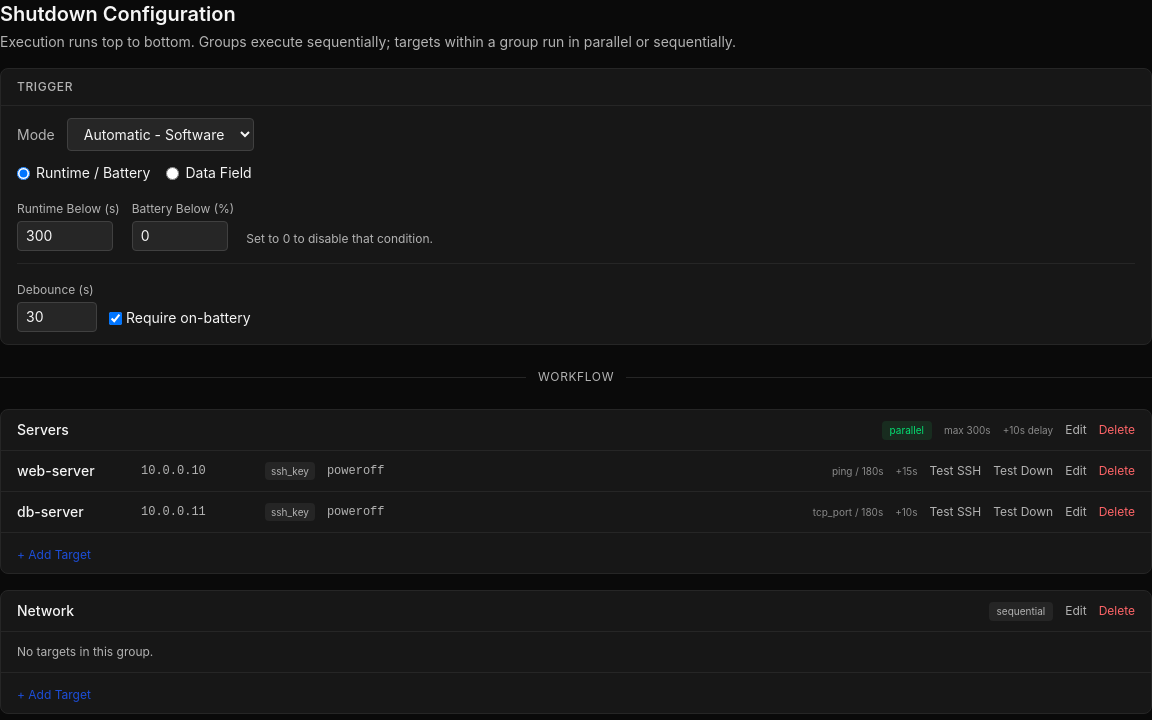
ShutdownConfig — Groups › opens group edit form
Expected: the text "Servers" is shown, [17,421,69,438]
Click the button "Edit" next to "s delay": [1076, 430] box [1065,422,1087,438]
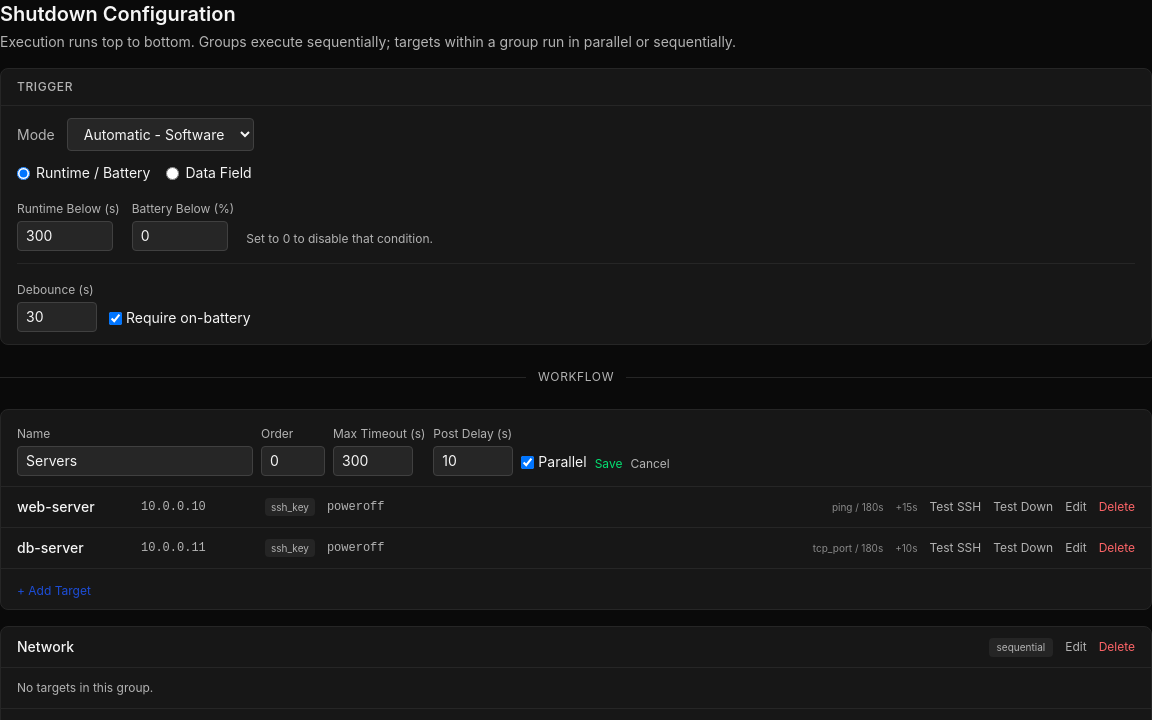
Now the button "Save" is shown, box [595,456,622,472]
